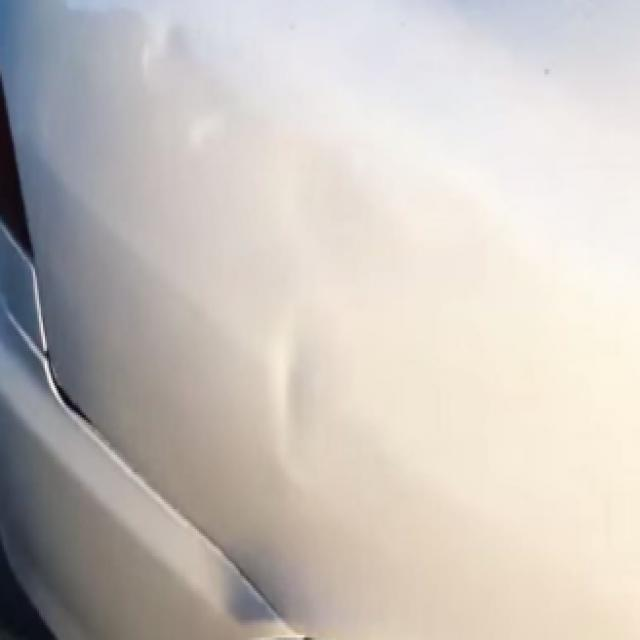dents: (254, 340, 362, 500), (130, 24, 222, 120)
